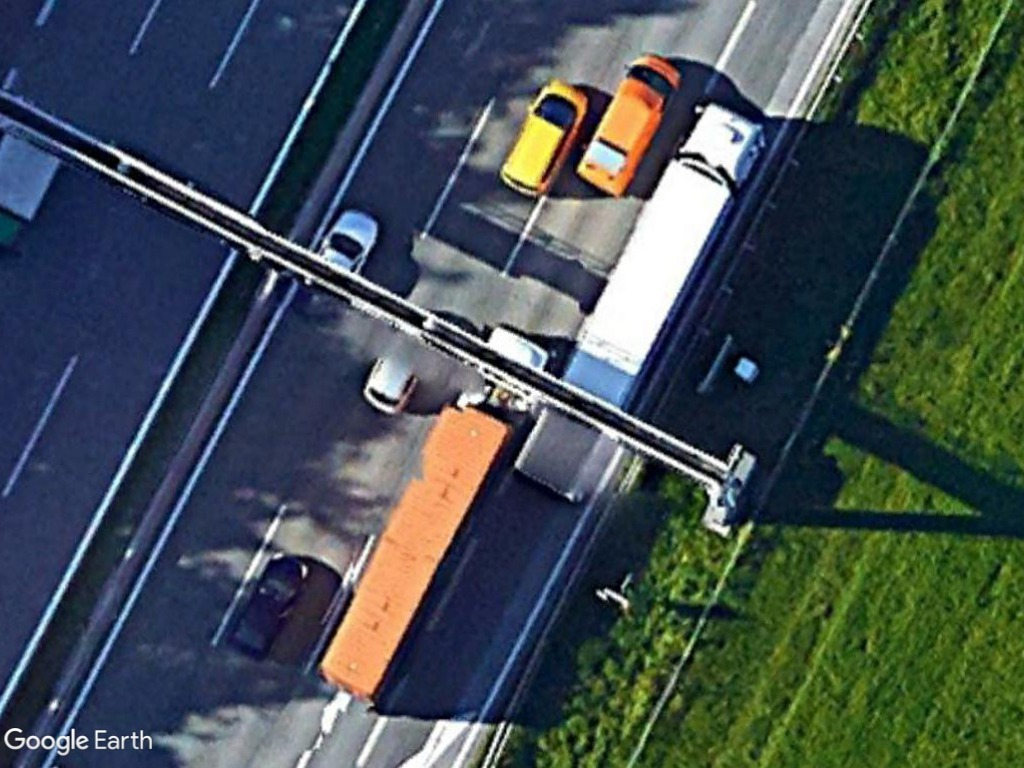car: (495, 71, 587, 207), (223, 548, 314, 667)
longvehicle: (509, 102, 774, 508)
van: (572, 48, 690, 201)
